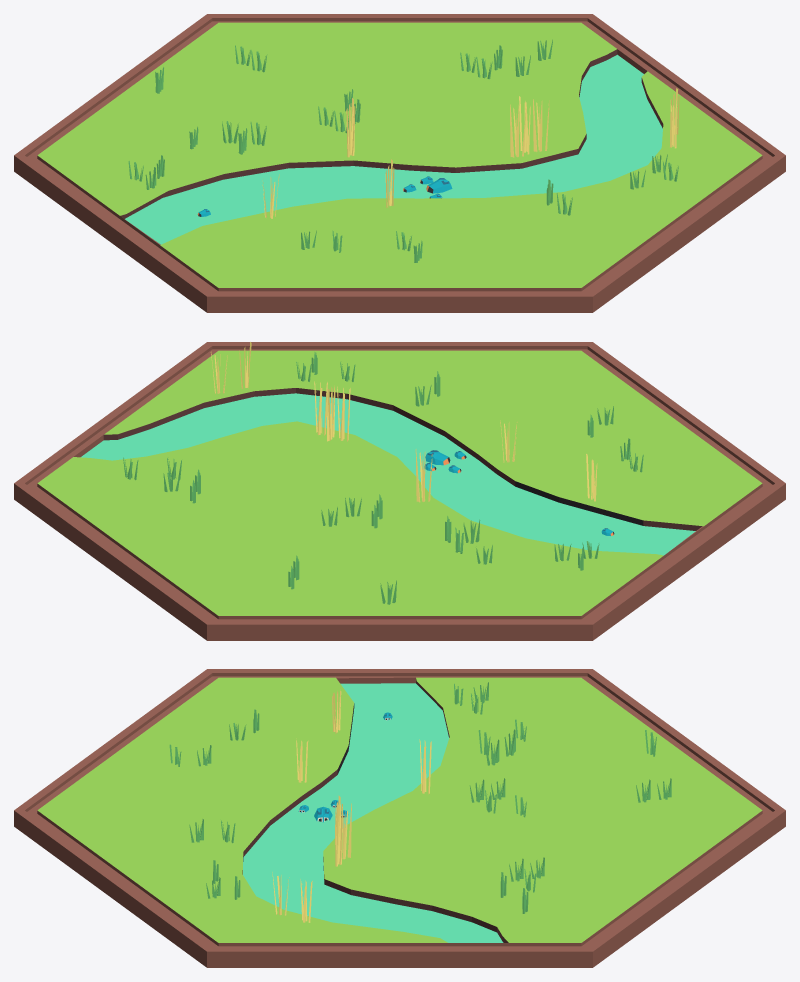
File: Hexagon_River.glb
The picture shows the model from 3 angles, top to bottom: view 1: azimuth 30°, elevation 25°; view 2: azimuth 150°, elevation 25°; view 3: azimuth 270°, elevation 25°; orthographic projection.
Parts seen in each view (by area): view 1: Circle; view 2: Circle; view 3: Circle.
Boxes of the visible parts, bbox=[...] form: Circle: bbox=[14, 14, 785, 312]; Circle: bbox=[14, 342, 785, 640]; Circle: bbox=[14, 669, 785, 967].
Size of the model in its own units: 30.17 by 3.51 by 34.84.
Materials: 2 (2 with a texture image).
